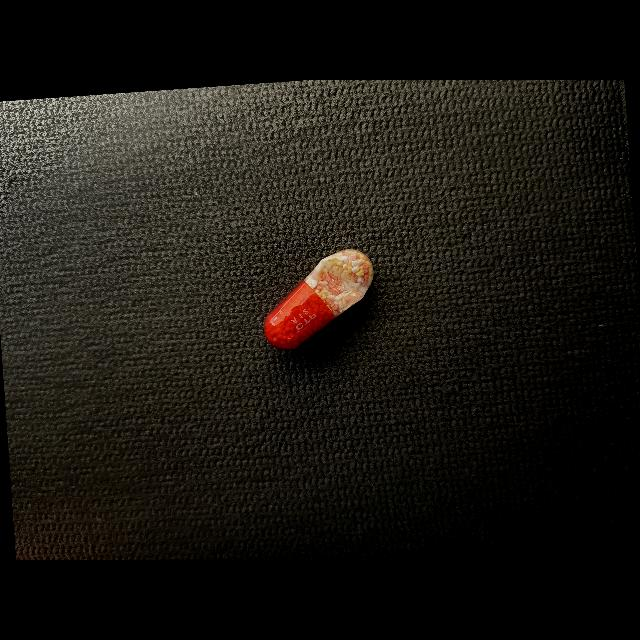Defective Capsule: (264, 249, 374, 351)
